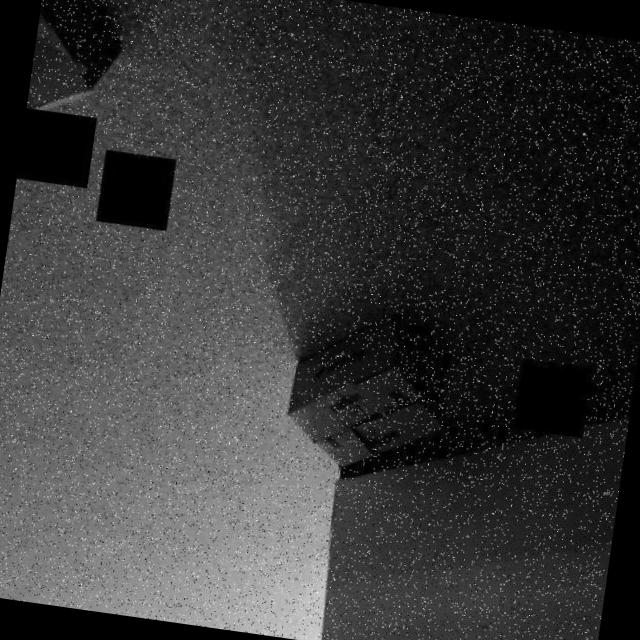box: (266, 293, 471, 508)
